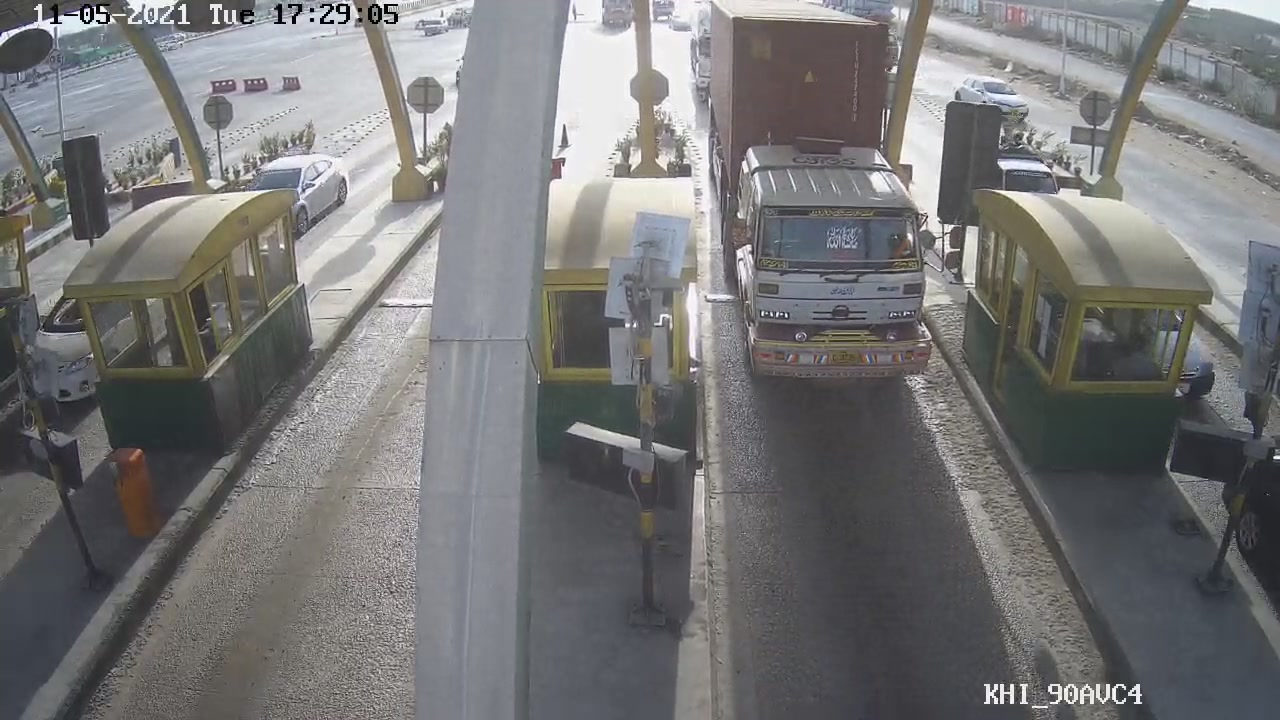F6: (703, 2, 976, 389)
